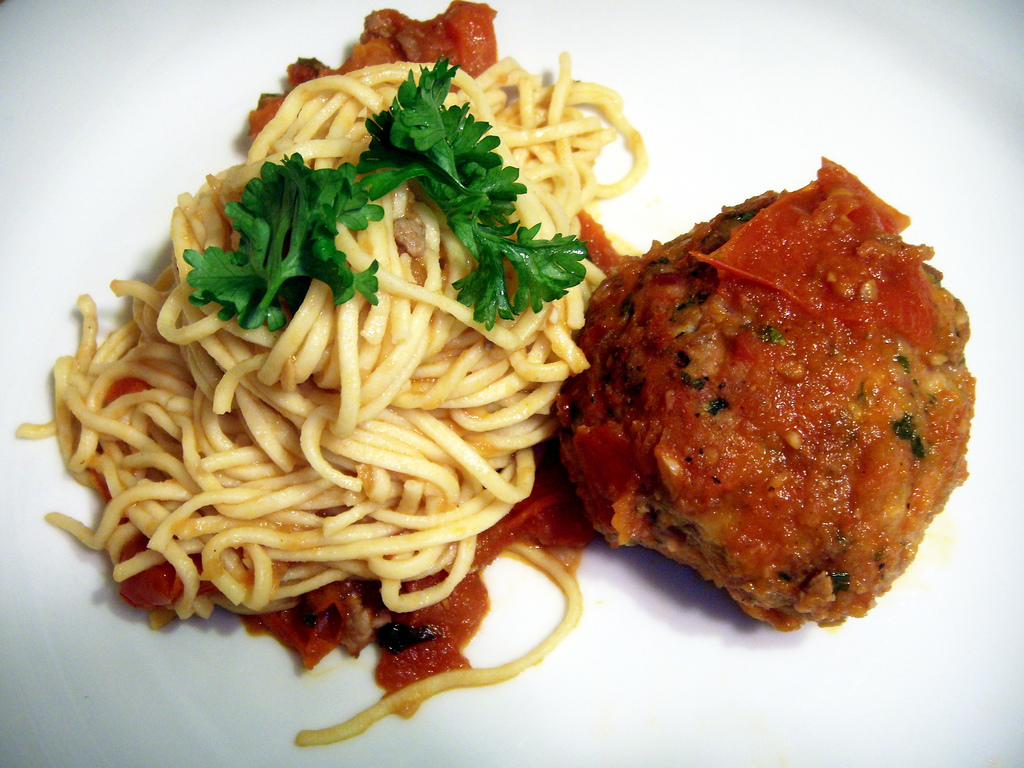meatballs: (624, 181, 922, 622)
plain spaghetti: (245, 99, 458, 584)
